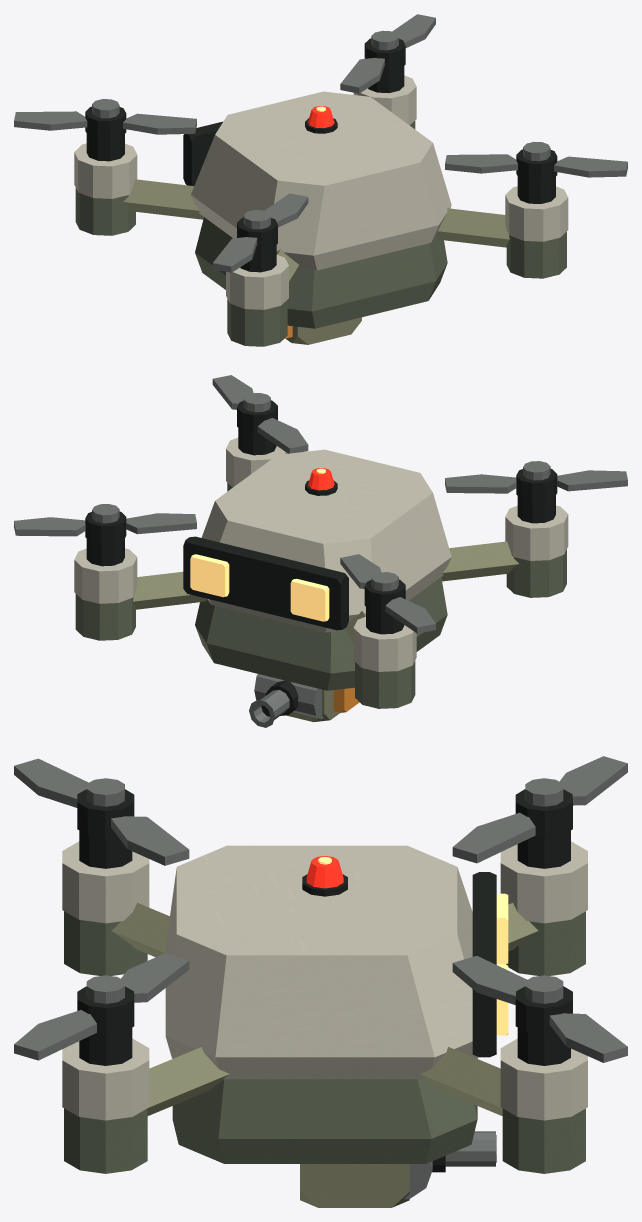
Rendered from flyer.glb.
3 renders of one model, top to bottom at view 1: azimuth 30°, elevation 25°; view 2: azimuth 150°, elevation 25°; view 3: azimuth 270°, elevation 25°, orthographic. The views are drawn at different scales.
Visible parts, largest first — view 1: flyer_body, flyer_prop_1_-1, flyer_prop_-1_1, flyer_prop_1_1, flyer_prop_-1_-1, flyer_turret; view 2: flyer_body, flyer_prop_-1_-1, flyer_prop_1_1, flyer_prop_-1_1, flyer_prop_1_-1, flyer_gun, flyer_gun_cradle, flyer_turret; view 3: flyer_body, flyer_prop_1_1, flyer_prop_1_-1, flyer_prop_-1_-1, flyer_prop_-1_1, flyer_turret, flyer_gun, flyer_beacon, flyer_gun_cradle.
Boxes of the visible parts, x1=… form: flyer_body: x1=74, y1=66, x2=568, y2=346; flyer_prop_1_-1: x1=445, y1=141, x2=627, y2=182; flyer_prop_-1_1: x1=14, y1=99, x2=196, y2=139; flyer_prop_1_1: x1=340, y1=14, x2=435, y2=93; flyer_prop_-1_-1: x1=212, y1=193, x2=308, y2=272; flyer_turret: x1=285, y1=317, x2=361, y2=344; flyer_body: x1=74, y1=428, x2=568, y2=708; flyer_prop_-1_-1: x1=445, y1=461, x2=627, y2=501; flyer_prop_1_1: x1=14, y1=504, x2=196, y2=544; flyer_prop_-1_1: x1=340, y1=554, x2=435, y2=633; flyer_prop_1_-1: x1=212, y1=375, x2=308, y2=453; flyer_gun: x1=249, y1=680, x2=298, y2=727; flyer_gun_cradle: x1=254, y1=674, x2=323, y2=719; flyer_turret: x1=286, y1=687, x2=359, y2=722; flyer_body: x1=62, y1=830, x2=587, y2=1173; flyer_prop_1_1: x1=452, y1=956, x2=627, y2=1062; flyer_prop_1_-1: x1=14, y1=953, x2=189, y2=1060; flyer_prop_-1_-1: x1=14, y1=758, x2=189, y2=865; flyer_prop_-1_1: x1=452, y1=756, x2=627, y2=863; flyer_turret: x1=300, y1=1164, x2=409, y2=1207; flyer_gun: x1=432, y1=1131, x2=496, y2=1172; flyer_beacon: x1=306, y1=856, x2=343, y2=888; flyer_gun_cradle: x1=404, y1=1161, x2=432, y2=1199.
Size of the model in its own units: 0.3536 by 0.1801 by 0.308.
Materials: 1 (1 with a texture image).
